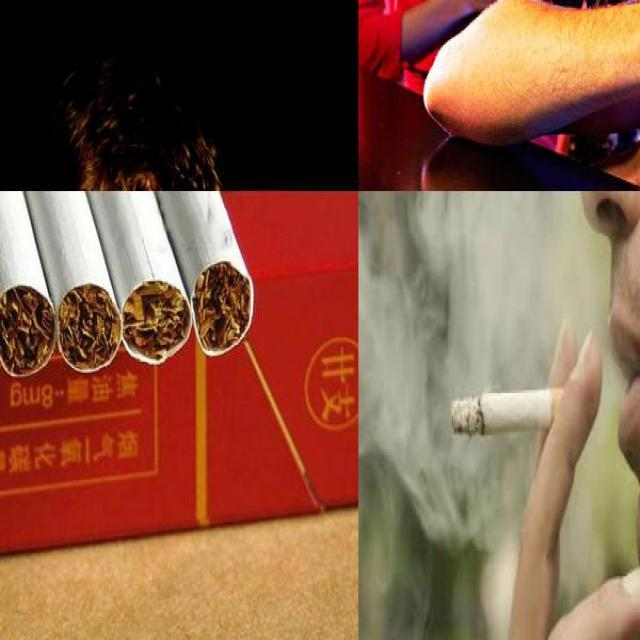smoke: (39, 191, 194, 367), (100, 191, 258, 360), (0, 191, 125, 376), (0, 191, 60, 379), (450, 386, 588, 434)
